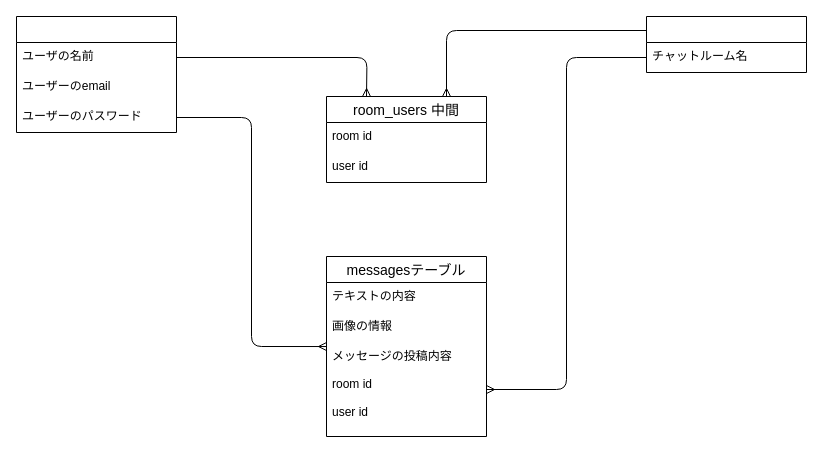
Image size: 823x453. Some labels were removed from this diagram. Each missing label, with the box of its shape:
roomsテーブル: (646, 16, 806, 72)
usersテーブル: (16, 16, 176, 132)
